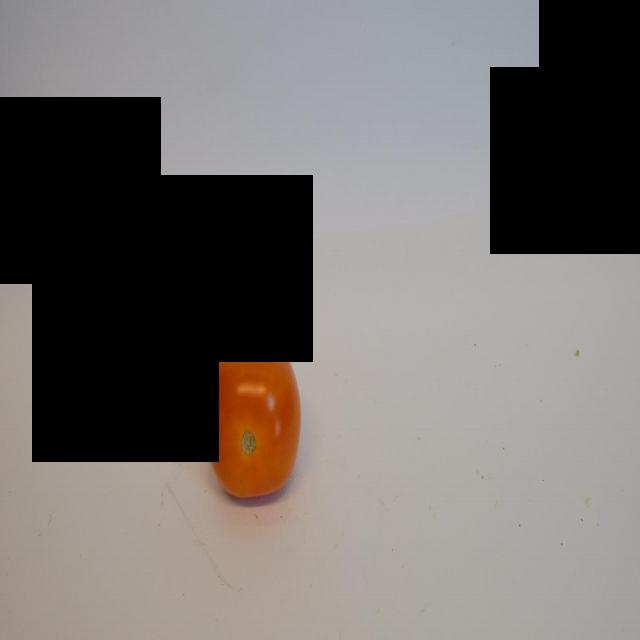tomato: (204, 329, 302, 509)
